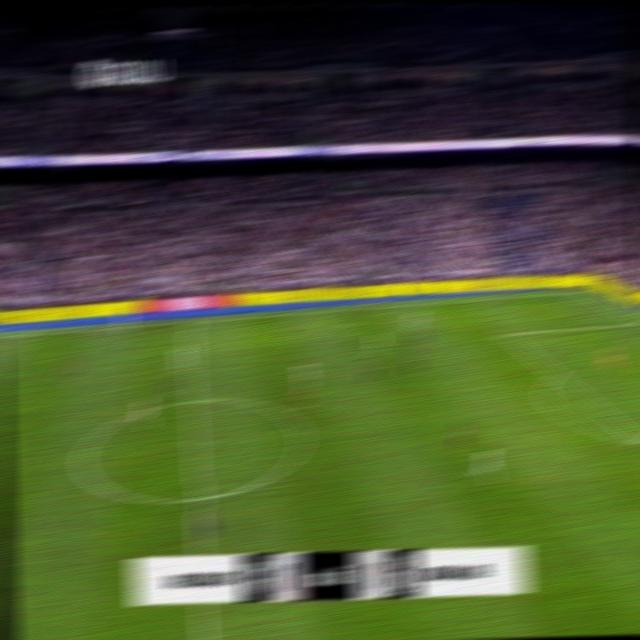bigarea_top_inner: (498, 326, 515, 340)
bottom_arc_area_intersection: (626, 428, 640, 447)
halfcircle_bottom: (185, 482, 208, 512)
halfcircle_top: (180, 386, 202, 412)
midline_top_intersection: (180, 314, 198, 329)
top_arc_area_intersection: (547, 366, 564, 381)
